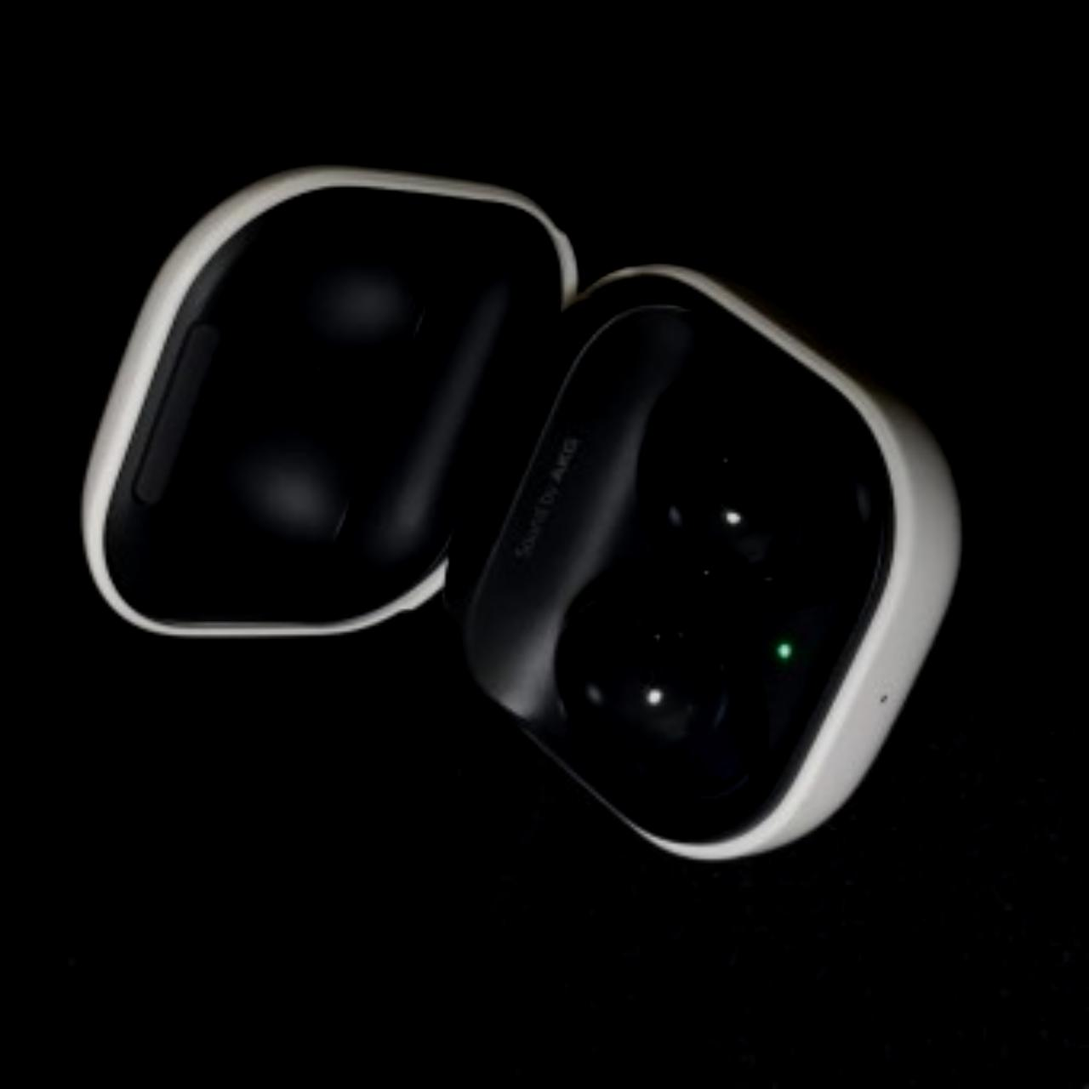Buds: (70, 158, 975, 866)
Buds_Units: (635, 367, 885, 607), (548, 561, 772, 814)
